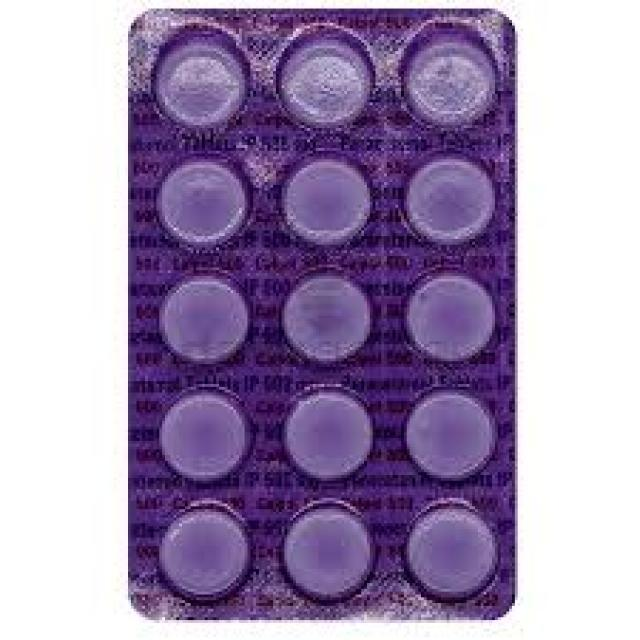authentic: (112, 6, 524, 634)
